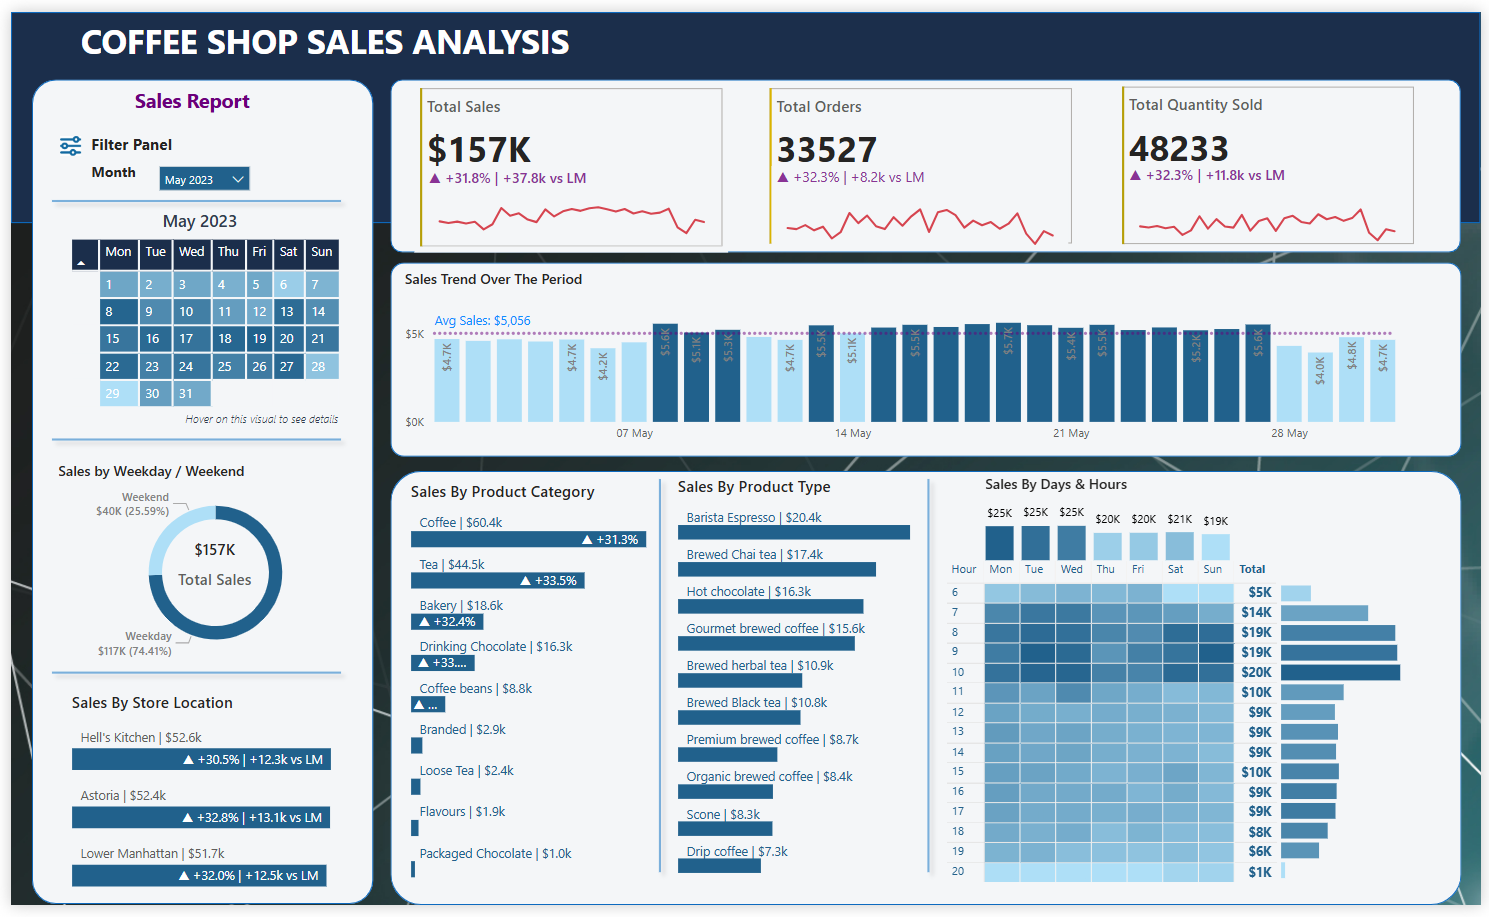

What the dashboard file says about the page in this screenshot:
{"tool":"powerbi","page":{"name":"Page 1","canvas":[1400,850],"ordinal":0},"visuals":[{"type":"shape","box":[0,0,1399.5,201],"z":0},{"type":"shape","box":[20.4,64.4,325.1,785.3],"z":1000},{"type":"shape","box":[361.3,64.4,1019.4,164.9],"z":2000},{"type":"textbox","box":[61.3,0,523,67.5],"z":3000},{"type":"slicer","fields":{"Values":["Date Table.Month Year"]},"box":[135,141.7,96.7,31.7],"z":4000},{"type":"cardVisual","fields":{"Data":["Transactions.Total Quantity Sold"]},"box":[1052.5,65,288.8,160.6],"z":5000,"group":"g3"},{"type":"group","id":"g1","title":"Group 1","box":[383.8,67.5,298.8,162.5],"z":5000},{"type":"cardVisual","fields":{"Data":["Transactions.Total Sales"]},"box":[383.8,67.5,298.8,161.9],"z":5000,"group":"g1"},{"type":"cardVisual","fields":{"Data":["Transactions.Total Orders"]},"box":[717.5,67.5,298.5,158.5],"z":5000,"group":"g2"},{"type":"group","id":"g2","title":"Group 1","box":[717.5,67.5,298.5,160],"z":6000},{"type":"lineChart","fields":{"Y":["Transactions.Total Quantity Sold"],"Category":["Date Table.Date Hierarchy.Date"]},"box":[1060.2,145.2,272.4,81.1],"z":6000,"group":"g3"},{"type":"lineChart","fields":{"Y":["Transactions.Total Orders"],"Category":["Date Table.Date Hierarchy.Date"]},"box":[725,147.5,282.5,80],"z":6000,"group":"g2"},{"type":"lineChart","fields":{"Y":["Transactions.Total Sales"],"Category":["Date Table.Date Hierarchy.Date"]},"box":[391.8,148.3,281.8,81.7],"z":6000,"group":"g1"},{"type":"group","id":"g3","title":"Group 1","box":[1052.5,65,288.8,161.2],"z":7000},{"type":"pivotTable","fields":{"Columns":["Date Table.Day Name"],"Rows":["Date Table.Week Number"],"Values":["Min(Date Table.Day Number)"]},"box":[53.3,211.7,305,190],"z":8000},{"type":"card","fields":{"Values":["Min(Date Table.Month Year)"]},"box":[123.3,183.3,113.3,35],"z":9000},{"type":"card","fields":{"Values":["Transactions.Foot Note"]},"box":[148.3,375,180,25],"z":10000},{"type":"shape","box":[30,386.7,293.3,40],"z":11000},{"type":"shape","box":[30,160,293.3,40],"z":12000},{"type":"donutChart","title":"Sales by Weekday / Weekend","fields":{"Category":["Date Table.Weekday / Weekend"],"Y":["Transactions.Total Sales"]},"box":[39.5,427.5,308.8,195],"z":13000,"group":"g4"},{"type":"shape","box":[30,610,293.3,38.3],"z":13000},{"type":"group","id":"g4","title":"Group 2","box":[39.5,427.5,308.8,195],"z":14000},{"type":"cardVisual","fields":{"Data":["Transactions.Total Sales"]},"box":[138.3,482.5,111.2,85],"z":14000,"group":"g4"},{"type":"clusteredBarChart","title":"Sales By Store Location","fields":{"Y":["Transactions.Placeholder","Transactions.Total Sales"],"Category":["Transactions.store_location"]},"box":[53.3,646.7,285,193.3],"z":15000},{"type":"shape","box":[361.2,238.8,1020,185],"z":16000},{"type":"shape","box":[361.7,436.7,1020,413.3],"z":17000},{"type":"columnChart","title":"Sales Trend Over The Period","fields":{"Y":["Transactions.Total Sales"],"Category":["Transactions.transaction_date"]},"box":[370,243.8,960,173.8],"z":18000},{"type":"clusteredBarChart","title":"Sales By Product Category","fields":{"Y":["Transactions.Placeholder","Transactions.Total Sales"],"Category":["Transactions.product_category"]},"box":[375,445,266.2,383.8],"z":19000},{"type":"shape","box":[593.8,436.2,47.5,392.5],"z":20000},{"type":"clusteredBarChart","title":"Sales By Product Type","fields":{"Y":["Transactions.Placeholder","Transactions.Total Sales"],"Category":["Transactions.product_type"]},"box":[630,441.2,266.2,383.8],"z":21000},{"type":"shape","box":[850,436.2,47.5,392.5],"z":22000},{"type":"pivotTable","fields":{"Rows":["Transactions.Hour"],"Columns":["Date Table.Day Name"],"Values":["Transactions.Total Sales"]},"box":[885.6,516.7,414.4,333.3],"z":23000},{"type":"barChart","fields":{"Category":["Transactions.Hour"],"Y":["Transactions.Total Sales"]},"box":[1204.4,532.2,125.6,296.7],"z":24000},{"type":"columnChart","title":"Sales By Days & Hours","fields":{"Category":["Date Table.Day Name"],"Y":["Transactions.Total Sales"]},"box":[923.3,440,243.3,87.8],"z":25000},{"type":"textbox","box":[71.7,136.7,63.3,31.7],"z":26000},{"type":"textbox","box":[113.3,65,150,35],"z":27000},{"type":"textbox","box":[71.7,110,106.7,31.7],"z":28000},{"type":"image","box":[41.1,112.8,30.6,28.9],"z":29000}]}

Visuals, with their boxes in screenshot pixels (x1, y1, x2, y2), scaled from the page's 1400x850 canvas onto the 1489x917 screenshot:
shape: x1=0 y1=0 x2=1488 y2=217
shape: x1=22 y1=69 x2=367 y2=916
shape: x1=384 y1=69 x2=1468 y2=247
textbox: x1=65 y1=0 x2=621 y2=73
slicer - Date Table.Month Year: x1=144 y1=153 x2=246 y2=187
cardVisual - Transactions.Total Quantity Sold: x1=1119 y1=70 x2=1427 y2=243
"Group 1" group: x1=408 y1=73 x2=726 y2=248
cardVisual - Transactions.Total Sales: x1=408 y1=73 x2=726 y2=247
cardVisual - Transactions.Total Orders: x1=763 y1=73 x2=1081 y2=244
"Group 1" group: x1=763 y1=73 x2=1081 y2=245
lineChart - Transactions.Total Quantity Sold x Date Table.Date Hierarchy.Date: x1=1128 y1=157 x2=1417 y2=244
lineChart - Transactions.Total Orders x Date Table.Date Hierarchy.Date: x1=771 y1=159 x2=1072 y2=245
lineChart - Transactions.Total Sales x Date Table.Date Hierarchy.Date: x1=417 y1=160 x2=716 y2=248
"Group 1" group: x1=1119 y1=70 x2=1427 y2=244
pivotTable - Date Table.Day Name x Date Table.Week Number: x1=57 y1=228 x2=381 y2=433
card - Min(Date Table.Month Year): x1=131 y1=198 x2=252 y2=236
card - Transactions.Foot Note: x1=158 y1=405 x2=349 y2=432
shape: x1=32 y1=417 x2=344 y2=460
shape: x1=32 y1=173 x2=344 y2=216
"Sales by Weekday / Weekend" donutChart: x1=42 y1=461 x2=370 y2=672
shape: x1=32 y1=658 x2=344 y2=699
"Group 2" group: x1=42 y1=461 x2=370 y2=672
cardVisual - Transactions.Total Sales: x1=147 y1=521 x2=265 y2=612
"Sales By Store Location" clusteredBarChart: x1=57 y1=698 x2=360 y2=906
shape: x1=384 y1=258 x2=1469 y2=457
shape: x1=385 y1=471 x2=1470 y2=916
"Sales Trend Over The Period" columnChart: x1=394 y1=263 x2=1415 y2=451
"Sales By Product Category" clusteredBarChart: x1=399 y1=480 x2=682 y2=894
shape: x1=632 y1=471 x2=682 y2=894
"Sales By Product Type" clusteredBarChart: x1=670 y1=476 x2=953 y2=890
shape: x1=904 y1=471 x2=955 y2=894
pivotTable - Transactions.Hour x Date Table.Day Name: x1=942 y1=557 x2=1383 y2=916
barChart - Transactions.Hour x Transactions.Total Sales: x1=1281 y1=574 x2=1415 y2=894
"Sales By Days & Hours" columnChart: x1=982 y1=475 x2=1241 y2=569
textbox: x1=76 y1=147 x2=144 y2=182
textbox: x1=121 y1=70 x2=280 y2=108
textbox: x1=76 y1=119 x2=190 y2=153
image: x1=44 y1=122 x2=76 y2=153
